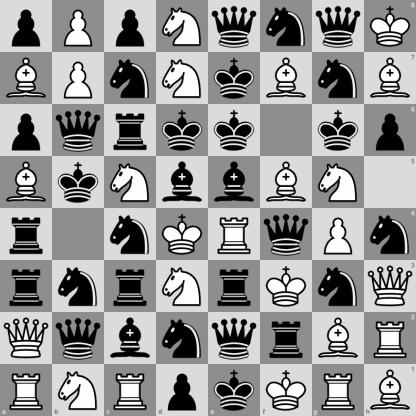B: (364, 52, 416, 104), (364, 364, 416, 416), (1, 53, 52, 104), (1, 157, 52, 208), (261, 53, 312, 104), (261, 157, 312, 208), (313, 313, 364, 364)
K: (260, 364, 312, 416), (364, 0, 416, 52), (157, 209, 208, 260), (261, 261, 312, 312)
N: (52, 364, 104, 416), (105, 157, 156, 208), (157, 1, 208, 52), (157, 53, 208, 104), (157, 261, 208, 312), (313, 157, 364, 208)
P: (53, 1, 104, 52), (53, 53, 104, 104), (313, 209, 364, 260)
Q: (364, 260, 416, 312), (1, 313, 52, 364)
R: (0, 364, 52, 416), (104, 364, 156, 416), (312, 364, 364, 416), (364, 312, 416, 364), (209, 209, 260, 260)
b: (105, 313, 156, 364), (157, 157, 208, 208), (209, 157, 260, 208)
board: (0, 0, 415, 415)
k: (209, 364, 260, 416), (53, 157, 104, 208), (157, 105, 208, 156), (209, 53, 260, 104), (209, 105, 260, 156), (313, 105, 364, 156)
n: (364, 209, 416, 260), (53, 261, 104, 312), (105, 53, 156, 104), (105, 209, 156, 260), (157, 313, 208, 364), (261, 1, 312, 52), (313, 53, 364, 104), (313, 261, 364, 312)
p: (156, 364, 209, 416), (364, 104, 416, 156), (1, 1, 52, 52), (1, 105, 52, 156), (105, 1, 156, 52)
q: (53, 105, 104, 156), (53, 313, 104, 364), (209, 1, 260, 52), (209, 313, 260, 364), (261, 209, 312, 260), (313, 1, 364, 52)
r: (1, 209, 52, 260), (1, 261, 52, 312), (105, 105, 156, 156), (105, 261, 156, 312), (209, 261, 260, 312), (261, 313, 312, 364)
